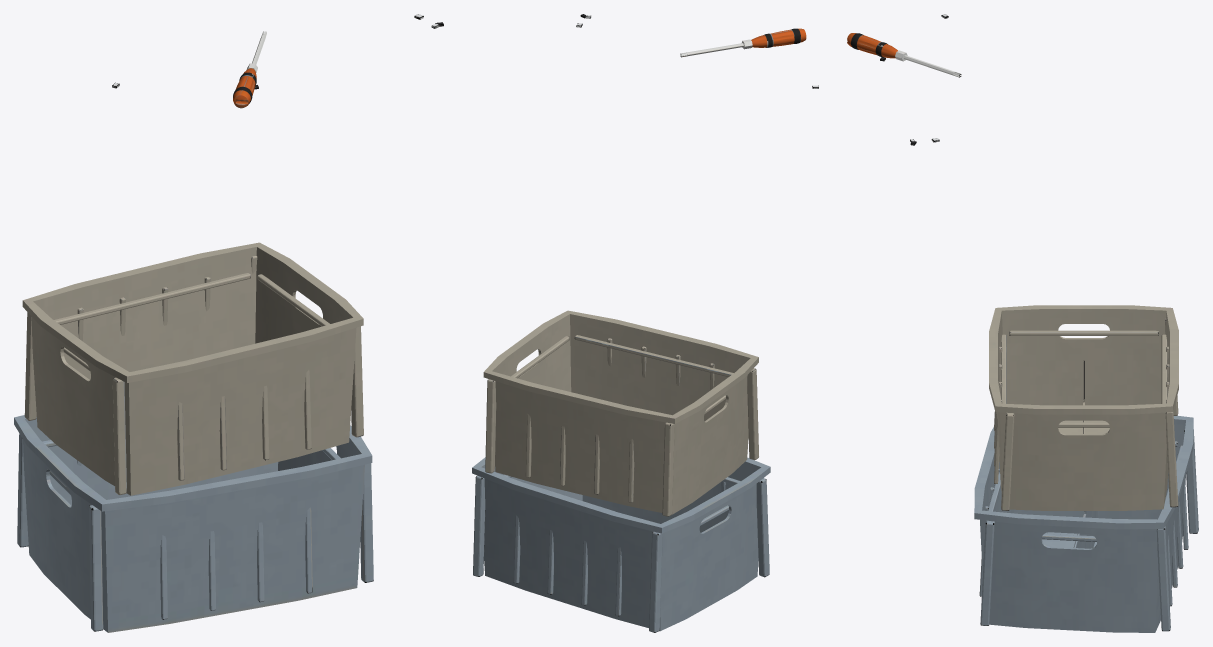
The model's file is desk_misc.glb.
3 renders of one model, left to right at view 1: azimuth 30°, elevation 25°; view 2: azimuth 150°, elevation 25°; view 3: azimuth 270°, elevation 25°, orthographic. The views are drawn at different scales.
Visible parts, largest first — view 1: tote_2__mesh, tote_1__mesh, screwdriver__mesh; view 2: tote_2__mesh, tote_1__mesh, screwdriver__mesh; view 3: tote_2__mesh, tote_1__mesh, screwdriver__mesh.
Boxes of the visible parts, x1,y1,x2,y2 form: tote_2__mesh: [22, 242, 363, 495]; tote_1__mesh: [14, 415, 373, 632]; screwdriver__mesh: [233, 31, 266, 108]; tote_2__mesh: [483, 310, 758, 516]; tote_1__mesh: [472, 457, 770, 632]; screwdriver__mesh: [680, 28, 806, 57]; tote_2__mesh: [989, 305, 1178, 510]; tote_1__mesh: [974, 415, 1198, 632]; screwdriver__mesh: [847, 33, 961, 77].
Bounding box in the file's own units: 0.4127 × 0.7568 × 0.4719.
1 material, 1 textured.
